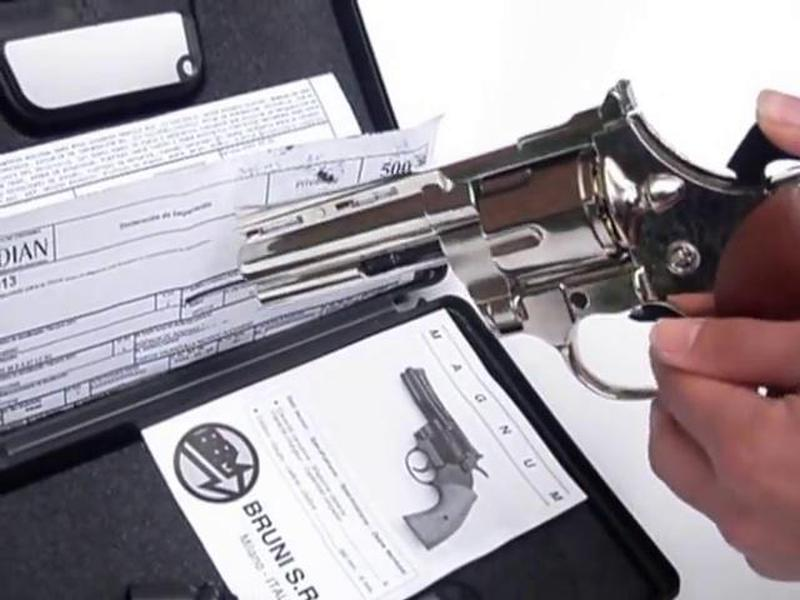Revolver: (192, 86, 800, 413)
